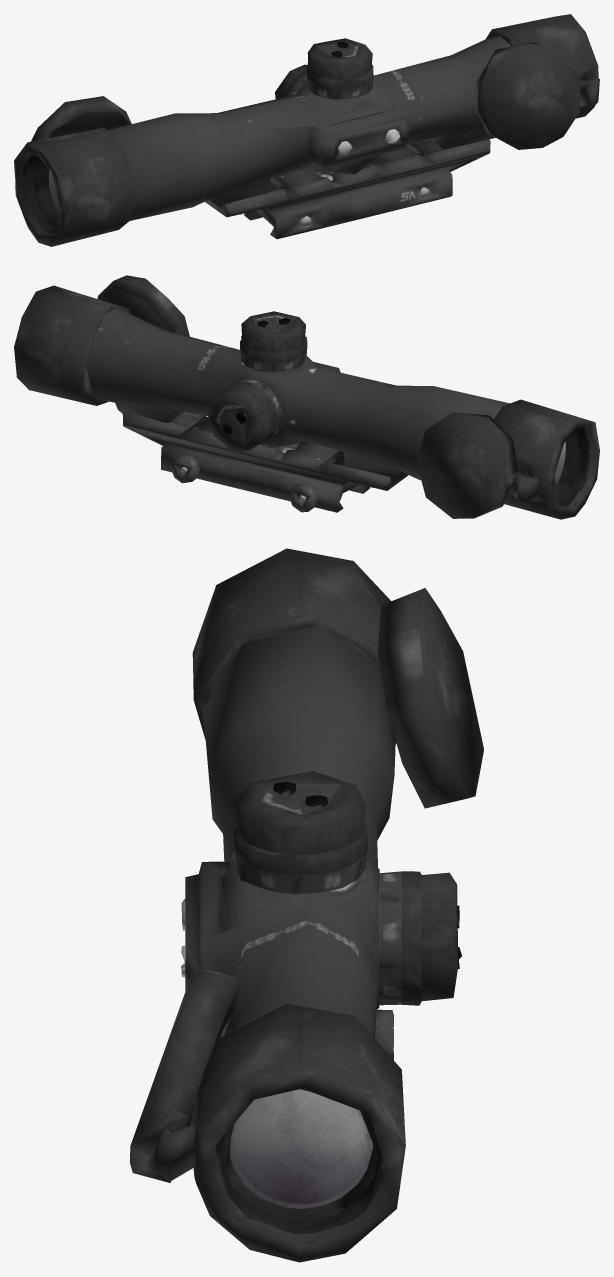
File: Rifle_4XScope.fbx
The picture shows the model from 3 angles, top to bottom: view 1: azimuth 30°, elevation 25°; view 2: azimuth 150°, elevation 25°; view 3: azimuth 270°, elevation 25°; orthographic projection. The views are drawn at different scales.
Parts seen in each view (by area): view 1: 4xScope; view 2: 4xScope; view 3: 4xScope.
Part boxes in pixels (x1,y1,x2,y2): 4xScope: [14, 14, 599, 246]; 4xScope: [14, 275, 599, 519]; 4xScope: [129, 548, 483, 1262].
Bounding box in the file's own units: 0.1642 × 0.047 × 0.0469.
